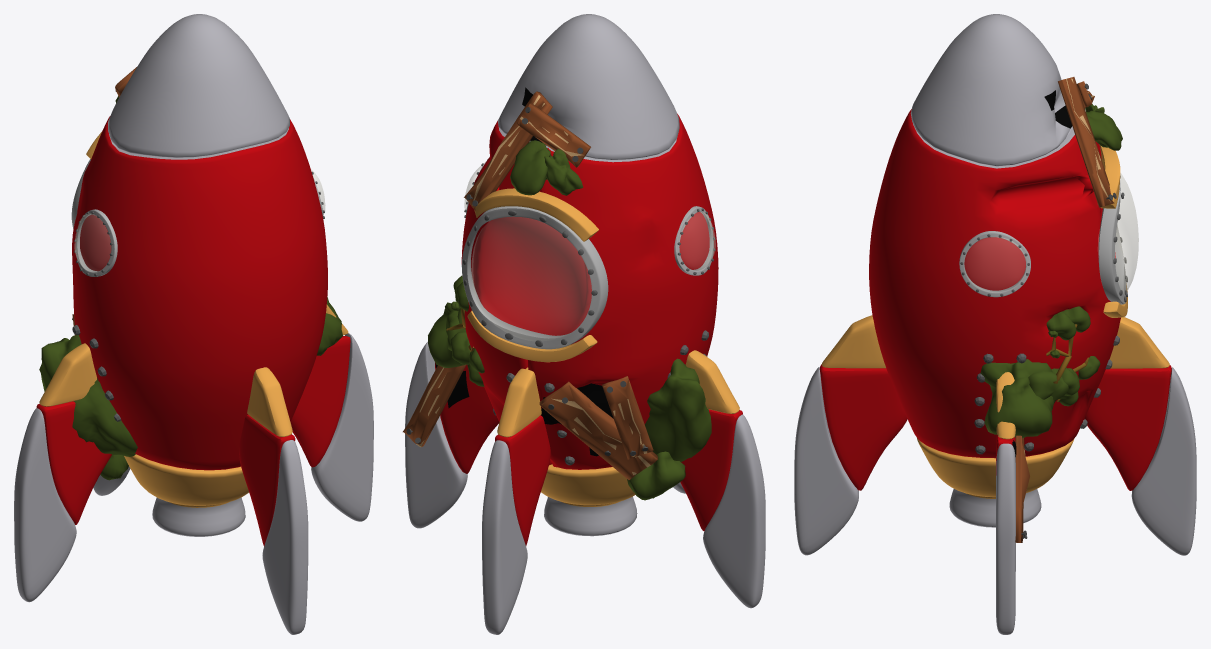
File: rocket2.glb
The picture shows the model from 3 angles, left to right: view 1: azimuth 30°, elevation 25°; view 2: azimuth 150°, elevation 25°; view 3: azimuth 270°, elevation 25°; orthographic projection.
Parts seen in each view (by area): view 1: rocket; view 2: rocket; view 3: rocket.
Part boxes in pixels (box(x1,y1,x2,y2)): rocket: box(14, 14, 373, 634); rocket: box(403, 14, 765, 634); rocket: box(794, 14, 1196, 634).
Size of the model in its own units: 1.22 by 1.8 by 1.22.
